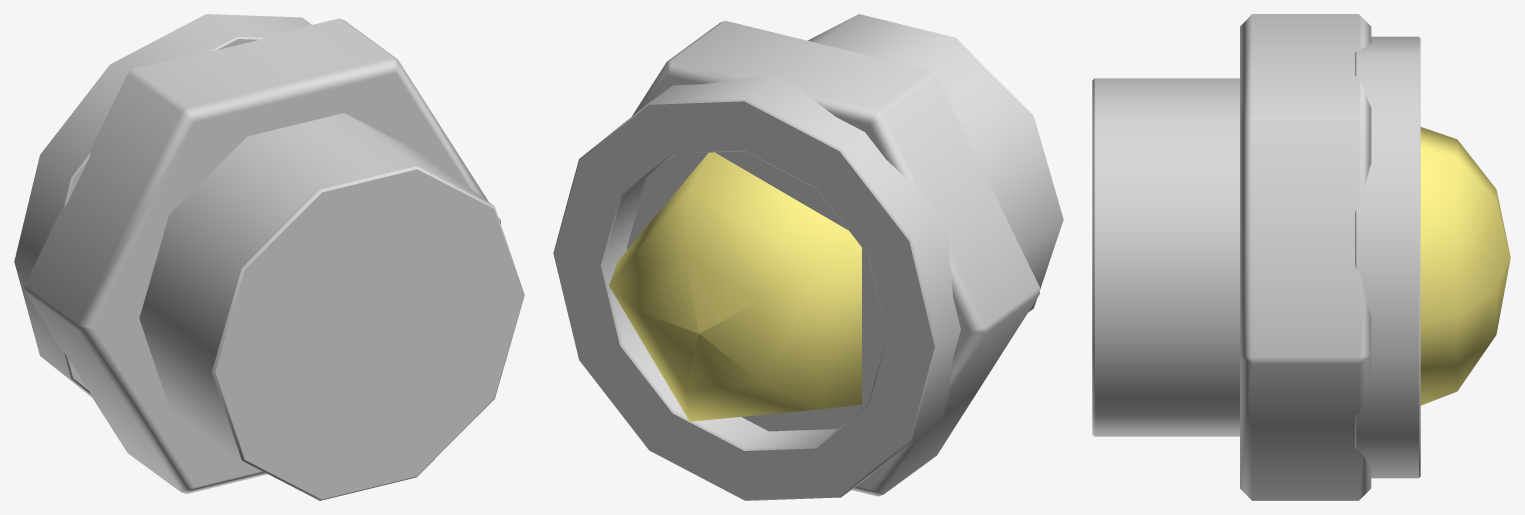
File: WeakPoint.glb
3 views of the same model, side by side, from view 1: azimuth 30°, elevation 25°; view 2: azimuth 150°, elevation 25°; view 3: azimuth 270°, elevation 25° (orthographic).
Visible parts, largest first — view 1: Body; view 2: Body, Glow; view 3: Body, Glow.
Boxes of the visible parts, x1,y1,x2,y2 form: Body: (14,14,524,500); Body: (553,14,1063,500); Glow: (609,152,861,421); Body: (1092,14,1420,500); Glow: (1420,127,1510,405).
Bounding box in the file's own units: 5.95 × 5.4 × 5.1.
